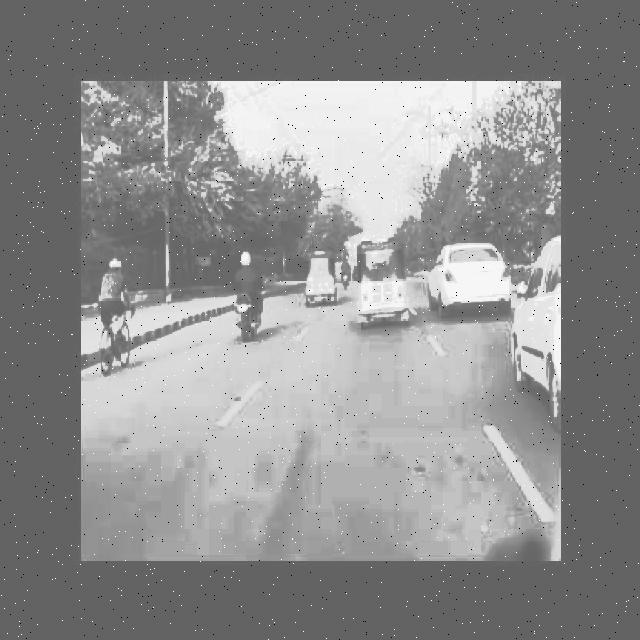Car: (511, 237, 560, 415), (426, 232, 511, 312)
